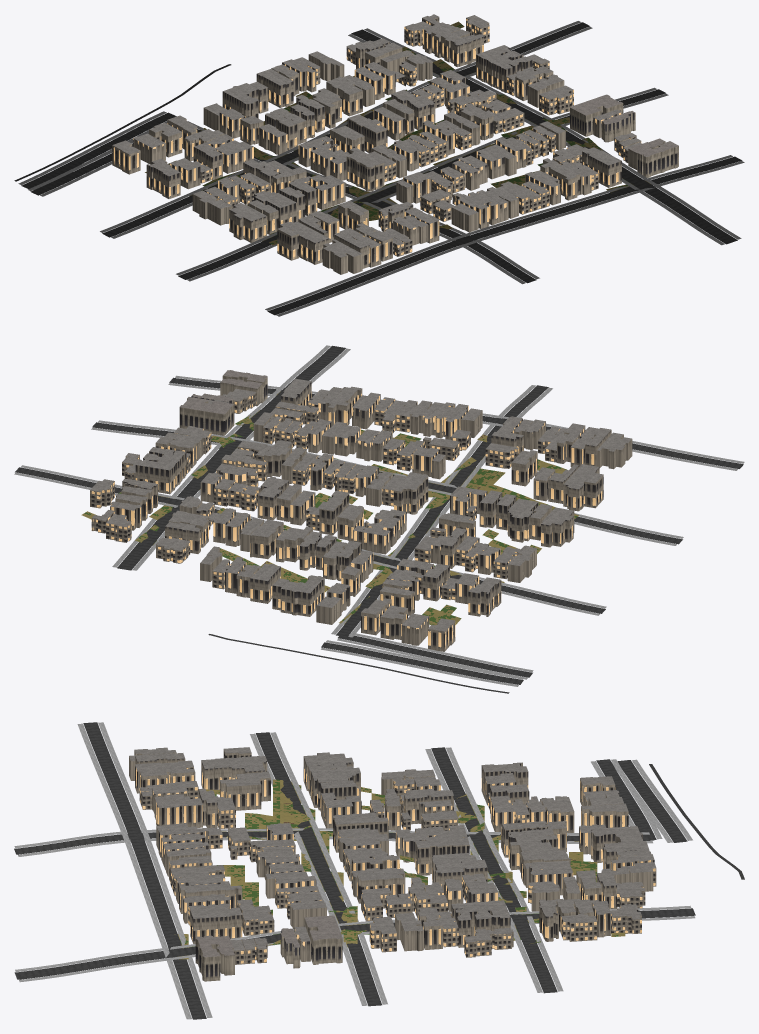
Rendered from tile_22_-36.gltf.
3 renders of one model, top to bottom at view 1: azimuth 30°, elevation 25°; view 2: azimuth 150°, elevation 25°; view 3: azimuth 270°, elevation 25°, orthographic. The views are drawn at different scales.
Visible parts, largest first — view 1: Buildings_col, Roads, Sidewalks, Terrain_col; view 2: Buildings_col, Roads, Sidewalks, Terrain_col; view 3: Buildings_col, Roads, Sidewalks, Terrain_col.
Part boxes in pixels (left/top/right/bottom): Buildings_col: left=112, top=14, right=678, bottom=274; Roads: left=14, top=22, right=742, bottom=315; Sidewalks: left=18, top=21, right=744, bottom=316; Terrain_col: left=145, top=21, right=650, bottom=245; Buildings_col: left=90, top=370, right=632, bottom=651; Roads: left=15, top=345, right=743, bottom=693; Sidewalks: left=14, top=345, right=744, bottom=686; Terrain_col: left=81, top=391, right=578, bottom=625; Buildings_col: left=129, top=747, right=656, bottom=981; Roads: left=14, top=722, right=744, bottom=1019; Sidewalks: left=14, top=722, right=695, bottom=1019; Terrain_col: left=174, top=779, right=625, bottom=959.
Bounding box in the file's own units: 402 × 55.39 × 415.
7 materials, 7 textured.
